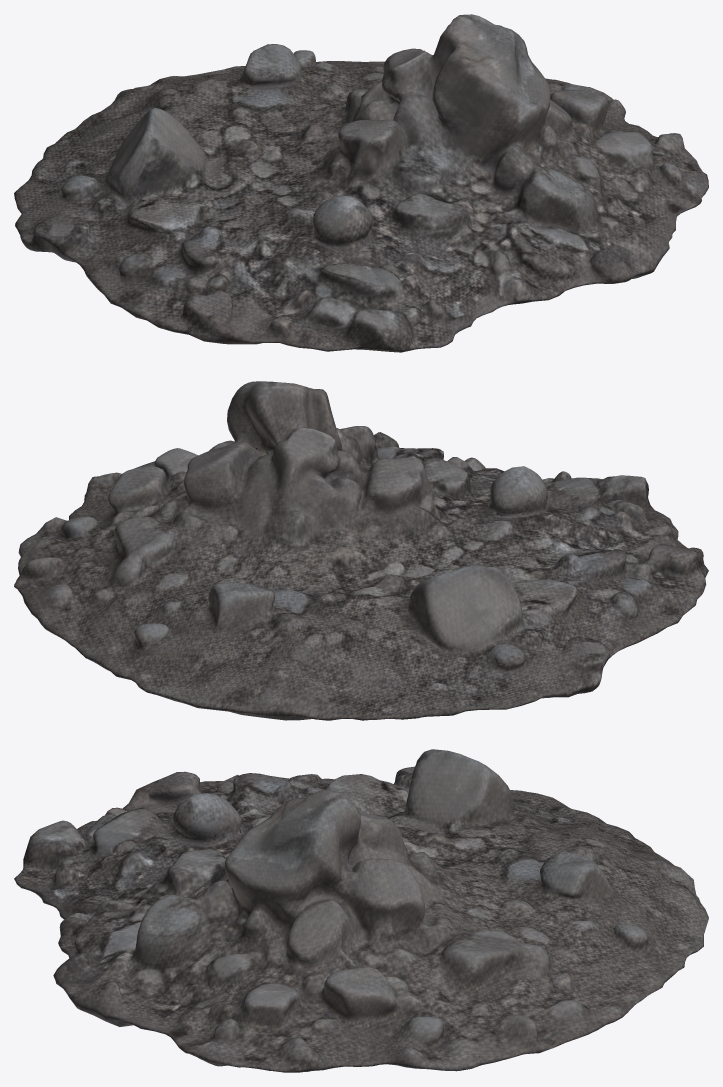
File: Gravel_base_basic_pbr.glb
3 renders of one model, top to bottom at view 1: azimuth 30°, elevation 25°; view 2: azimuth 150°, elevation 25°; view 3: azimuth 270°, elevation 25°, orthographic. The views are drawn at different scales.
Parts seen in each view (by area): view 1: model; view 2: model; view 3: model.
Boxes of the visible parts, x1,y1,x2,y2 form: model: [14, 14, 708, 352]; model: [14, 381, 708, 720]; model: [14, 749, 708, 1072].
Size of the model in its own units: 1.88 by 0.6011 by 1.88.
Materials: 1 (1 with a texture image).
